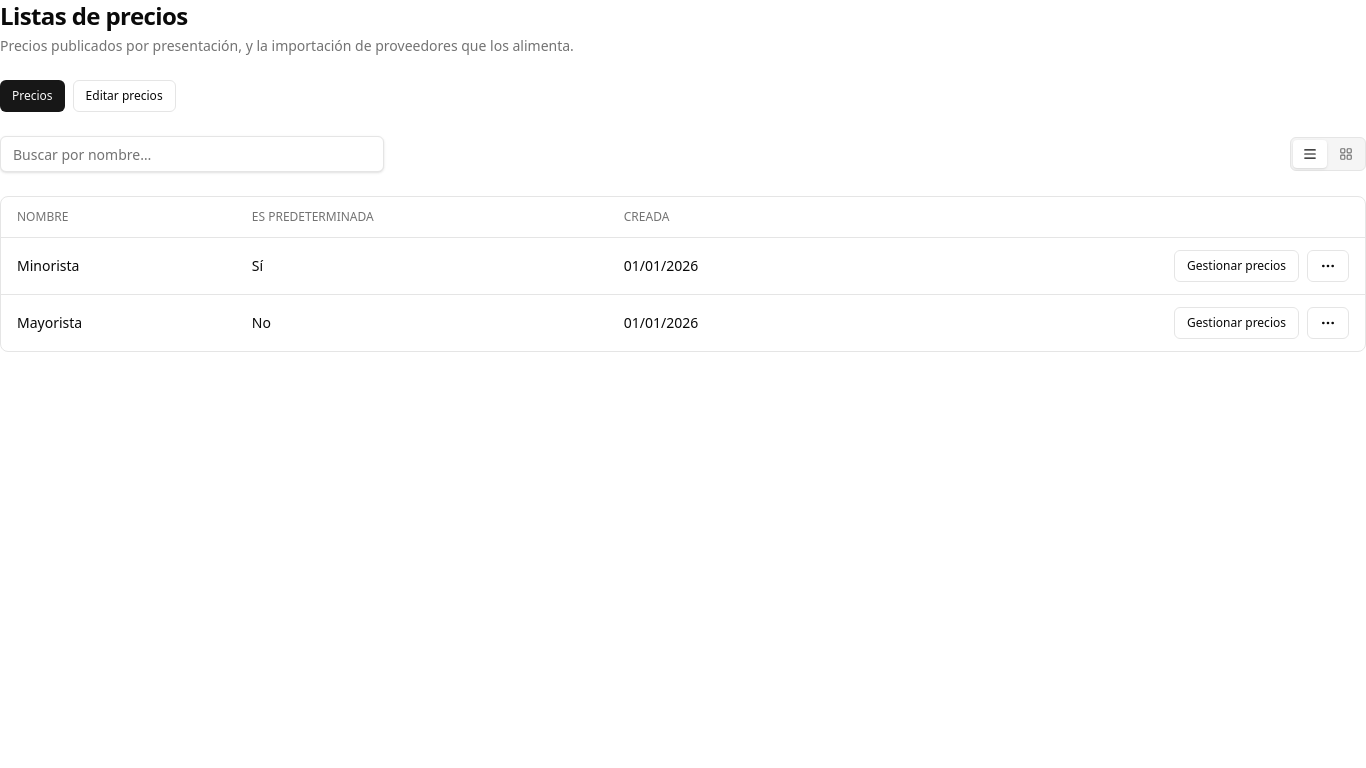
Test: PriceListsScreen "Editar precios" tab › opens on the default list and lists products by name with code, category and current prices
The image size is (1366, 768).
Expected: the text "Minorista" is shown, top-left (1, 238), bottom-right (236, 294)
Click the button "Editar precios" at (124, 96), box top-left (73, 80), bottom-right (176, 112)
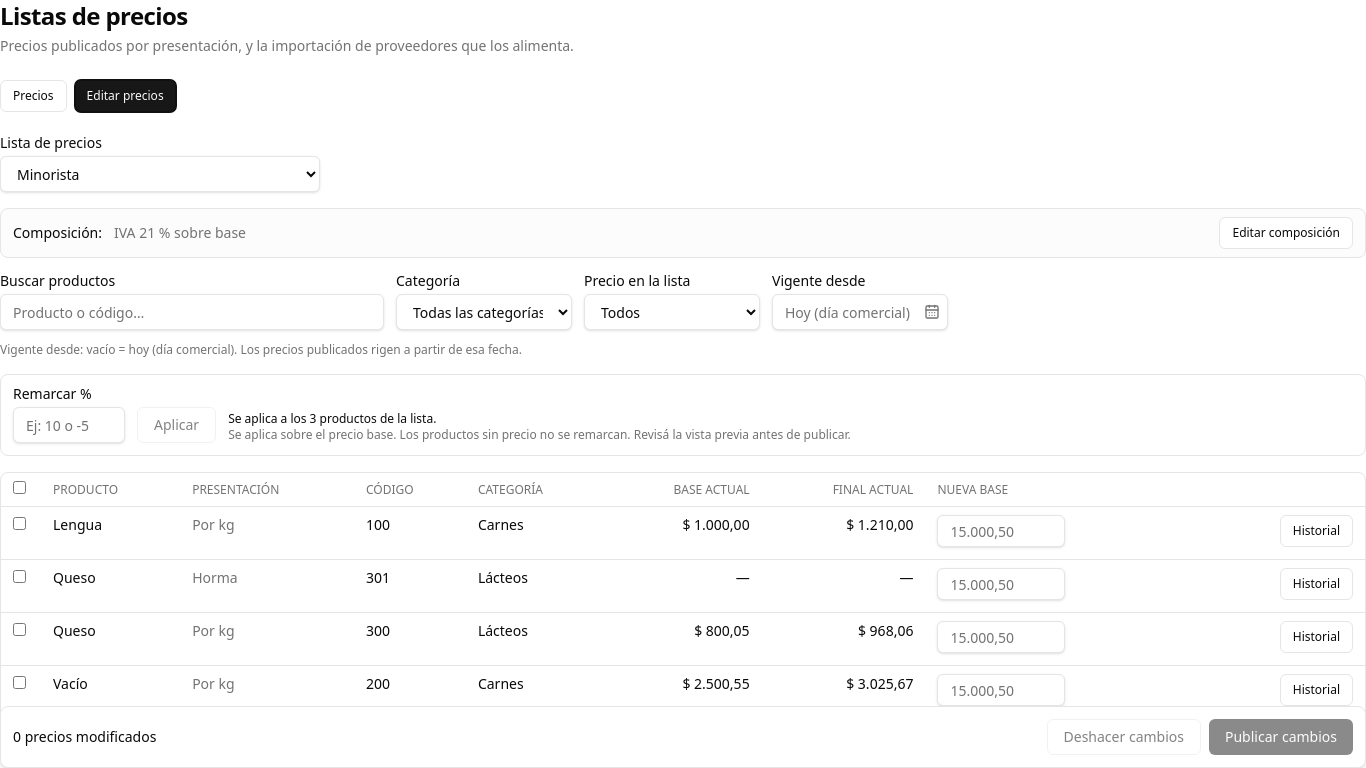
Expected: the text "Lengua" is shown, top-left (41, 506), bottom-right (180, 560)
Expected: the dropdown labelled "Lista de precios" shows "Minorista", top-left (0, 156), bottom-right (320, 192)
Expected: the text "100" is shown, top-left (354, 506), bottom-right (466, 560)
